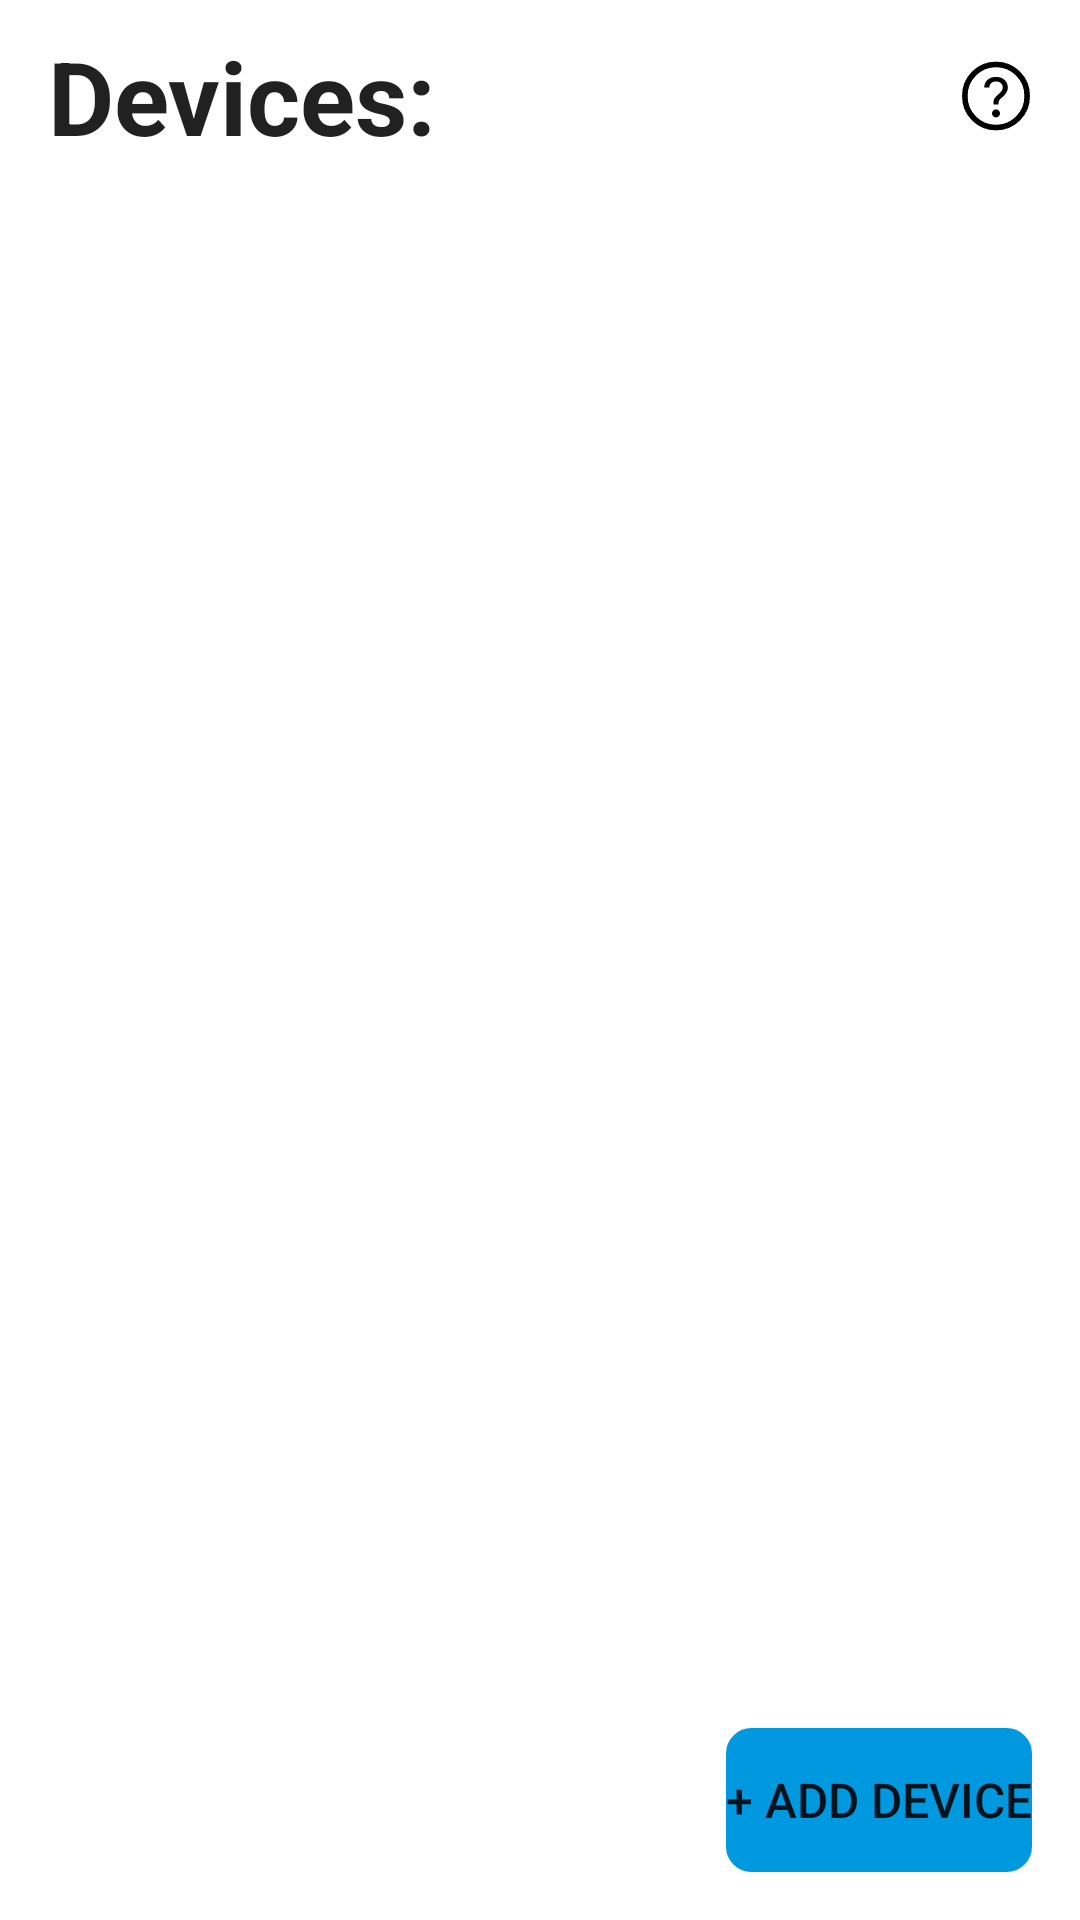

Named icons in this screenshot (1080px×1920px) and their bounding boxes, (x1, y1, x2, y2):
help: (962, 61, 1030, 131)
